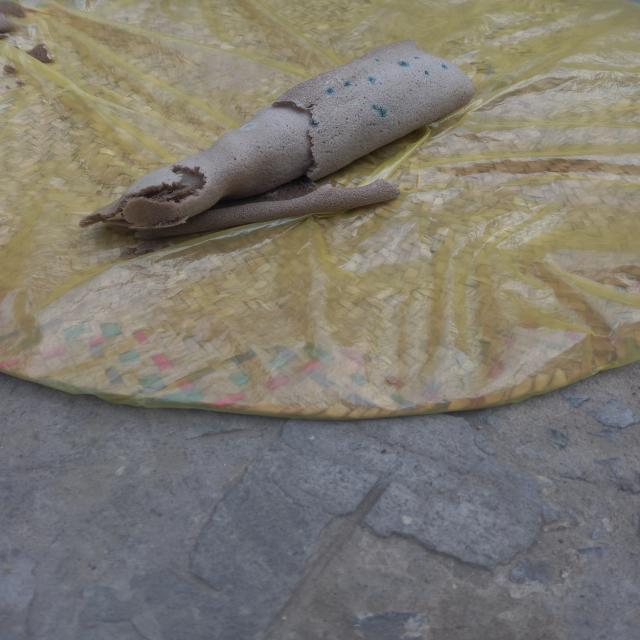injera_mold: (370, 105, 388, 118), (324, 87, 336, 97), (242, 123, 256, 131), (308, 118, 320, 127), (396, 60, 409, 68), (291, 100, 301, 108), (366, 76, 379, 82), (343, 81, 353, 88), (307, 182, 317, 188), (264, 192, 280, 195), (439, 64, 448, 69), (422, 70, 430, 75), (412, 56, 421, 60), (374, 58, 380, 62), (325, 73, 336, 75), (277, 98, 284, 101), (370, 186, 378, 188), (325, 81, 329, 85), (389, 48, 394, 51), (355, 60, 361, 61), (368, 53, 371, 55), (355, 105, 359, 106), (349, 63, 351, 64), (339, 68, 341, 68)
